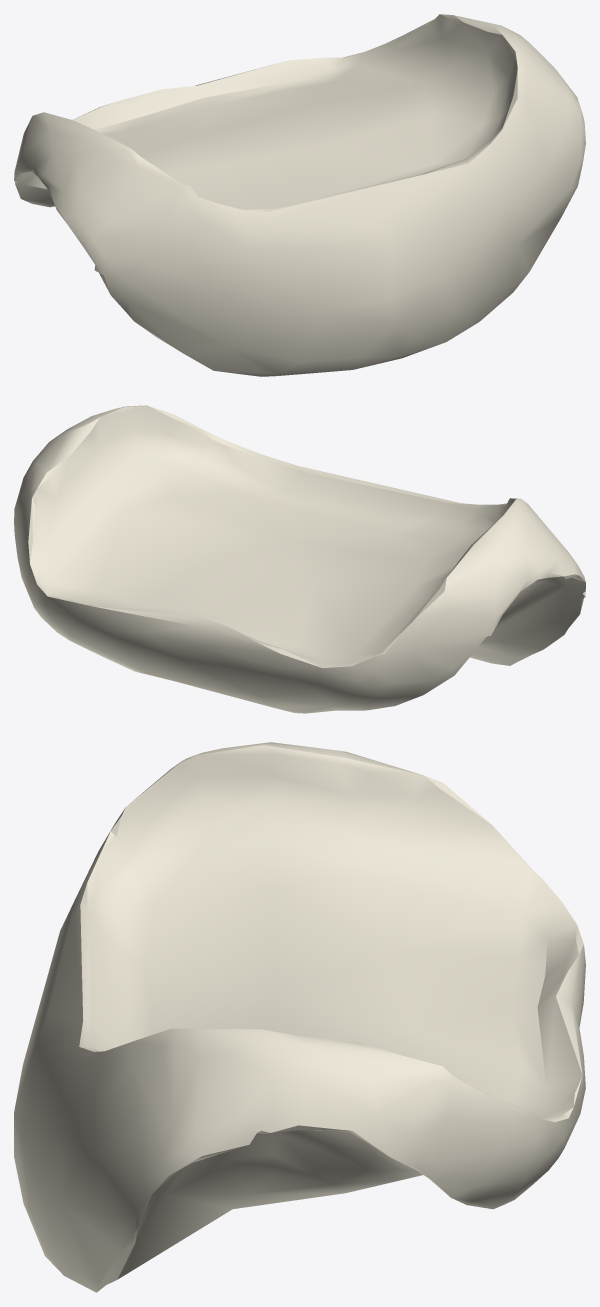
Rendered from fma13897_fj3218.glb.
3 views of the same model, one above another, from view 1: azimuth 30°, elevation 25°; view 2: azimuth 150°, elevation 25°; view 3: azimuth 270°, elevation 25° (orthographic). The views are drawn at different scales.
Parts seen in each view (by area): view 1: FMA13897_FJ3218; view 2: FMA13897_FJ3218; view 3: FMA13897_FJ3218.
Part boxes in pixels (x1,y1,x2,y2): FMA13897_FJ3218: (14, 14, 585, 376); FMA13897_FJ3218: (14, 405, 585, 713); FMA13897_FJ3218: (14, 742, 585, 1292).
Bounding box in the file's own units: 0.0255 × 0.0106 × 0.0171.
